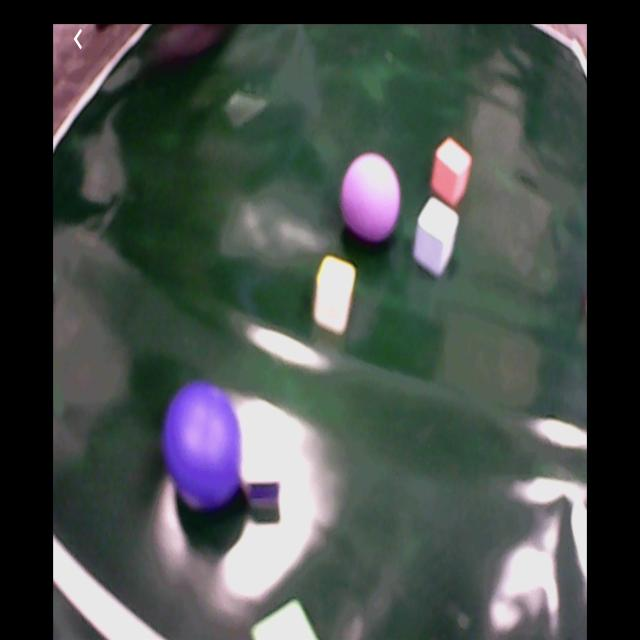ball: (165, 385, 244, 506), (342, 154, 401, 240)
